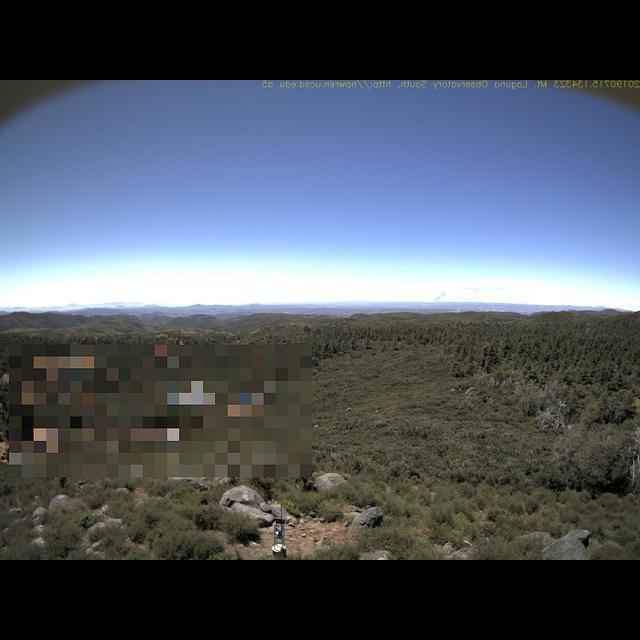Smoke: (431, 283, 451, 303)
